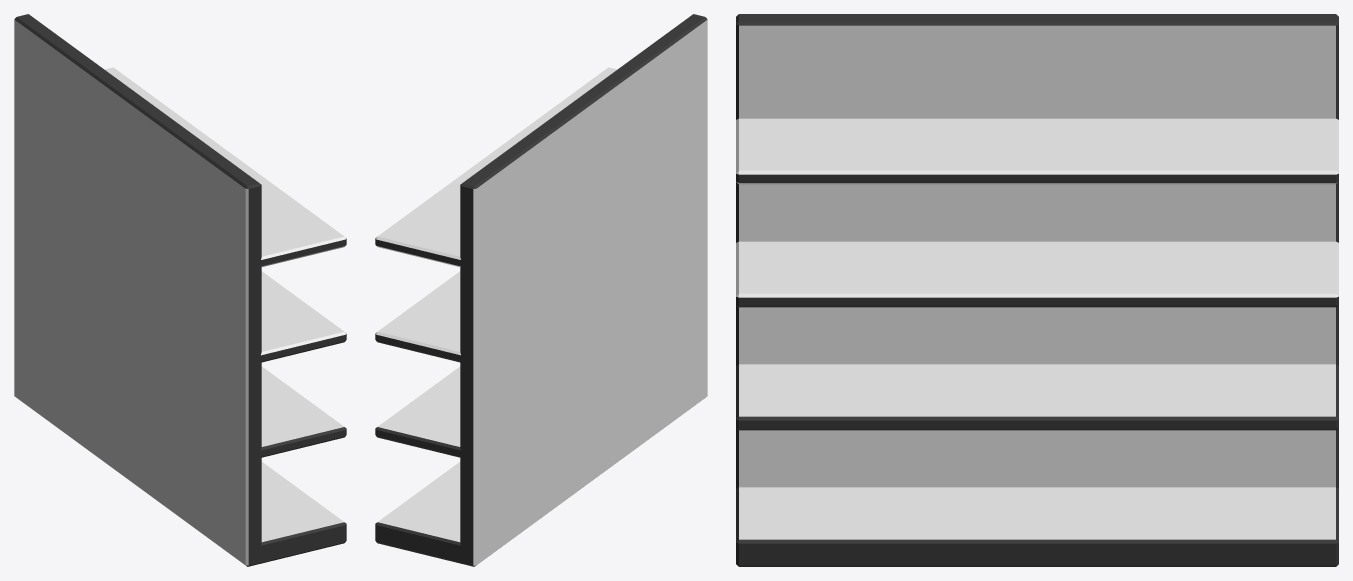
File: SM_Build_Wandregal_Weiss.fbx
3 views of the same model, side by side, from view 1: azimuth 30°, elevation 25°; view 2: azimuth 150°, elevation 25°; view 3: azimuth 270°, elevation 25° (orthographic). The views are drawn at different scales.
Parts seen in each view (by area): view 1: Wandregal Weiß; view 2: Wandregal Weiß; view 3: Wandregal Weiß.
Boxes of the visible parts, box(x1,y1,x2,y2) form: Wandregal Weiß: box(14, 14, 346, 566); Wandregal Weiß: box(375, 14, 707, 566); Wandregal Weiß: box(736, 14, 1338, 566).
Size of the model in its own units: 0.5 by 1.8 by 2.
